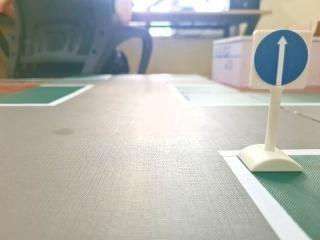straight: (250, 27, 312, 89)
